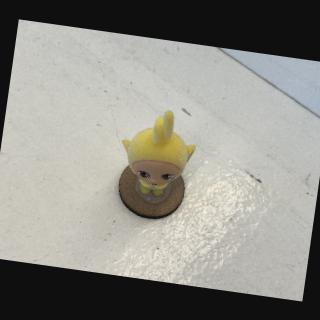teletubby: (122, 110, 195, 195)
